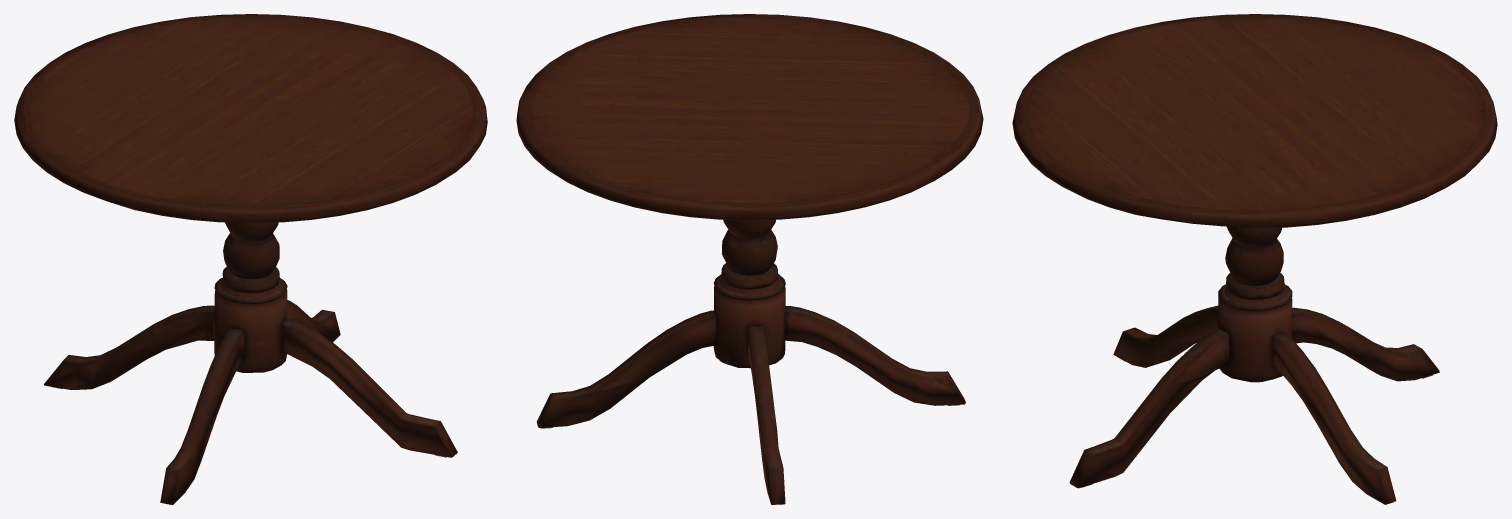
The model's file is round_table.glb.
3 views of the same model, side by side, from view 1: azimuth 30°, elevation 25°; view 2: azimuth 150°, elevation 25°; view 3: azimuth 270°, elevation 25° (orthographic). The views are drawn at different scales.
Visible parts, largest first — view 1: round_wooden_table_01; view 2: round_wooden_table_01; view 3: round_wooden_table_01.
Part boxes in pixels (bbox=[...]): round_wooden_table_01: bbox=[14, 14, 487, 504]; round_wooden_table_01: bbox=[516, 14, 983, 504]; round_wooden_table_01: bbox=[1012, 14, 1497, 504].
Bounding box in the file's own units: 1.4 × 1 × 1.4.
1 material, 1 textured.
